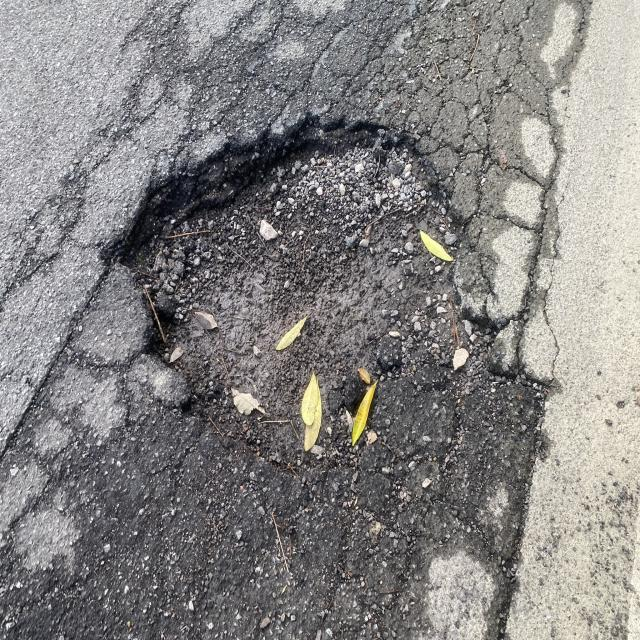pothole: (92, 110, 541, 456)
